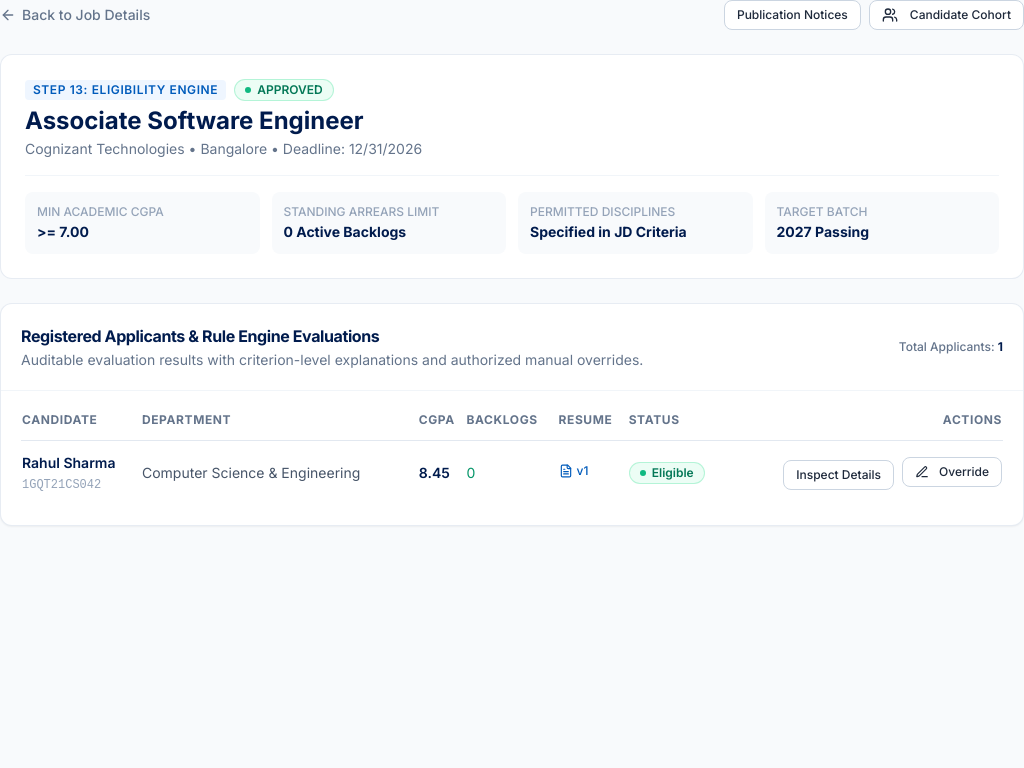
Phase 5: Student Registration & Eligibility Engine Frontend › renders eligibility workspace with applications and evaluation details
Expected: the heading "Associate Software Engineer" is shown, [25,105,422,137]
Expected: the text "Rahul Sharma" is shown, [22,454,116,471]
# Click inspect details to view criterion breakdown
Click the button "Inspect Details".
click(839, 474)  # box [783,460,894,490]
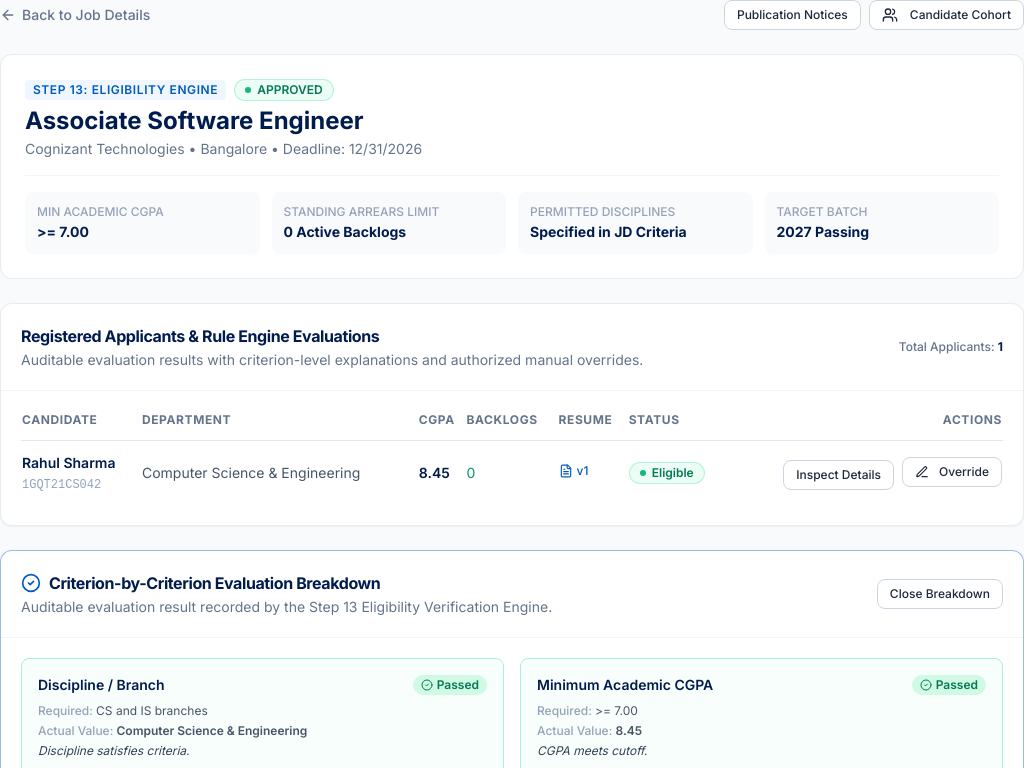
Expected: the heading "Criterion-by-Criterion Evaluation Breakdown" is shown, [21,573,380,593]
Expected: the text "Discipline / Branch" is shown, [38,675,164,695]
Expected: the text "Minimum Academic CGPA" is shown, [537,675,713,695]
